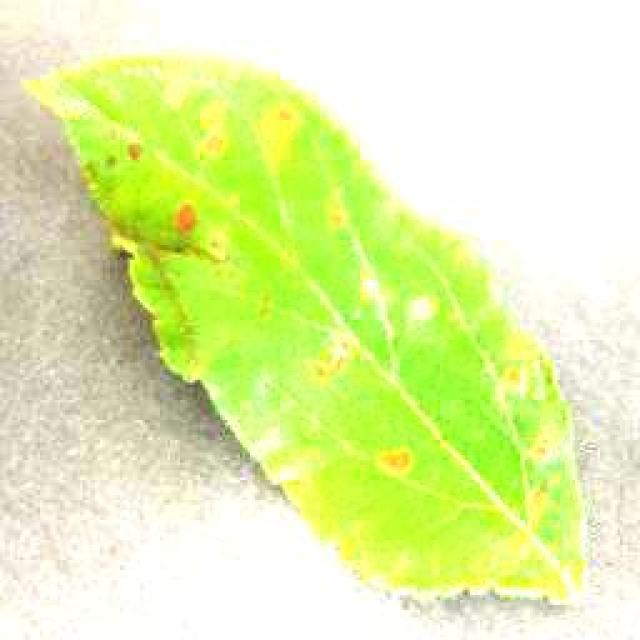apple cedar apple rust: (20, 45, 590, 607)
